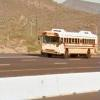Bus: (39, 27, 97, 65)
